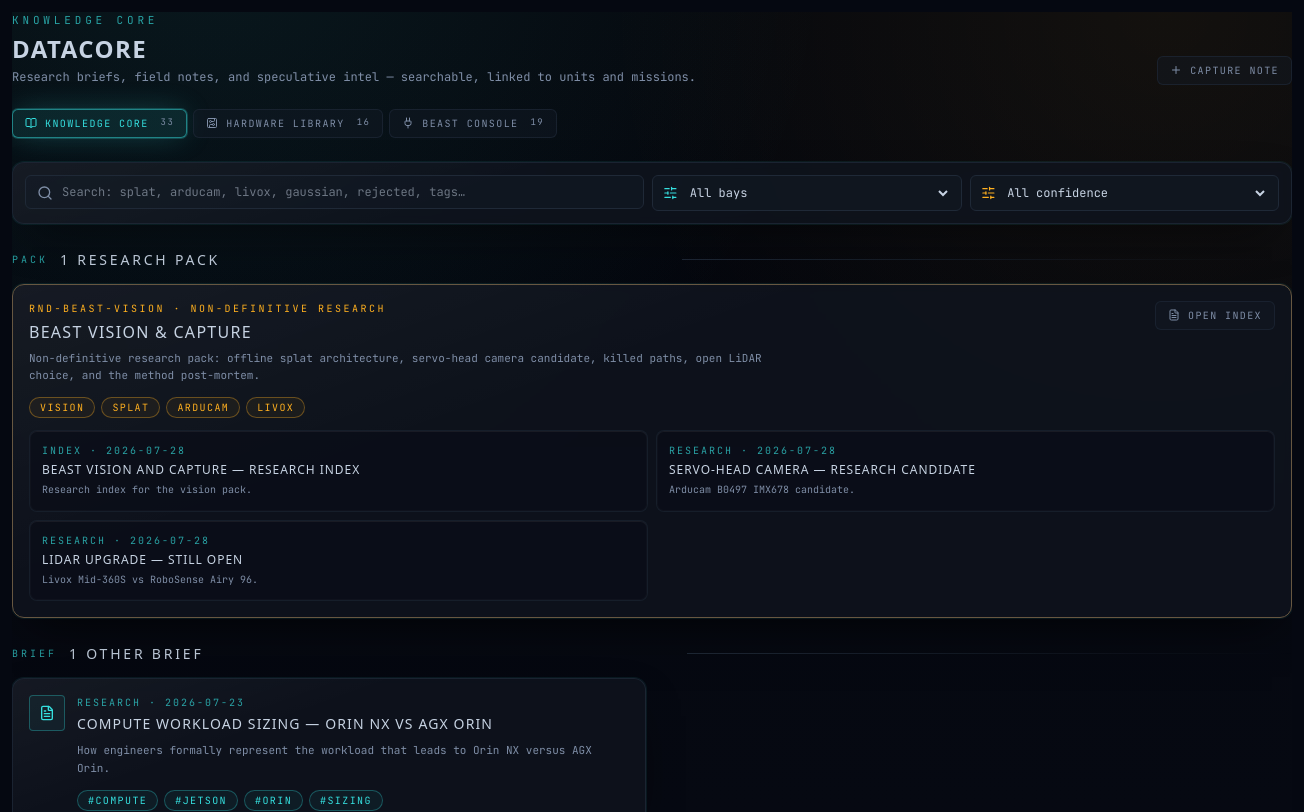
Test: Datacore page › finds the vision pack via product aliases like arducam and livox
Type "arducam" into the field with placeholder "Search: splat, arducam, livox, gaussian, rejected, tags…". click: (334, 192)
box: 25,174 -> 644,208
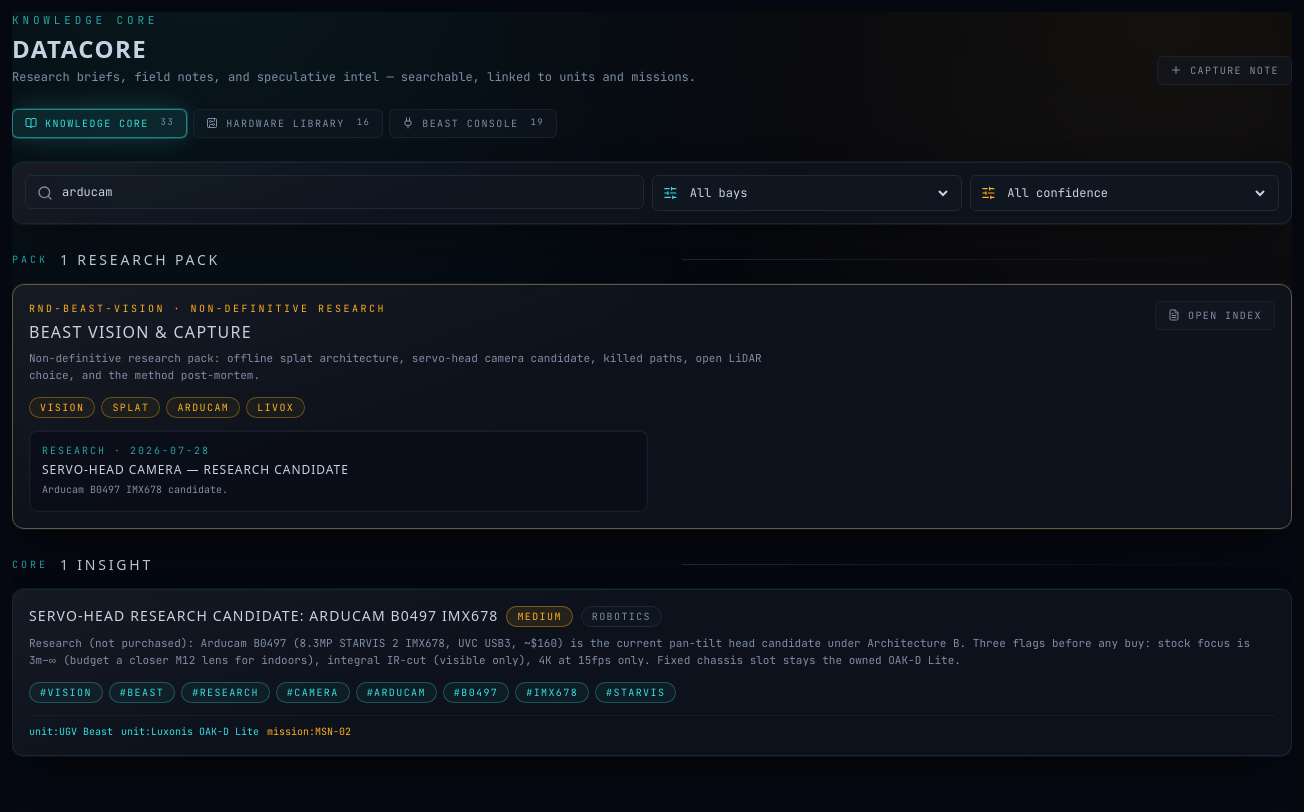
Expected: the heading "Beast Vision & Capture" is shown, 29,320 -> 252,342
Expected: the link "Servo-Head Camera" is shown, 29,430 -> 648,512
Replace the text in the field with placeholder "Search: splat, arducam, livox, gaussian, rejected, tags…" with "livox". click: (334, 192)
box: 25,174 -> 644,208
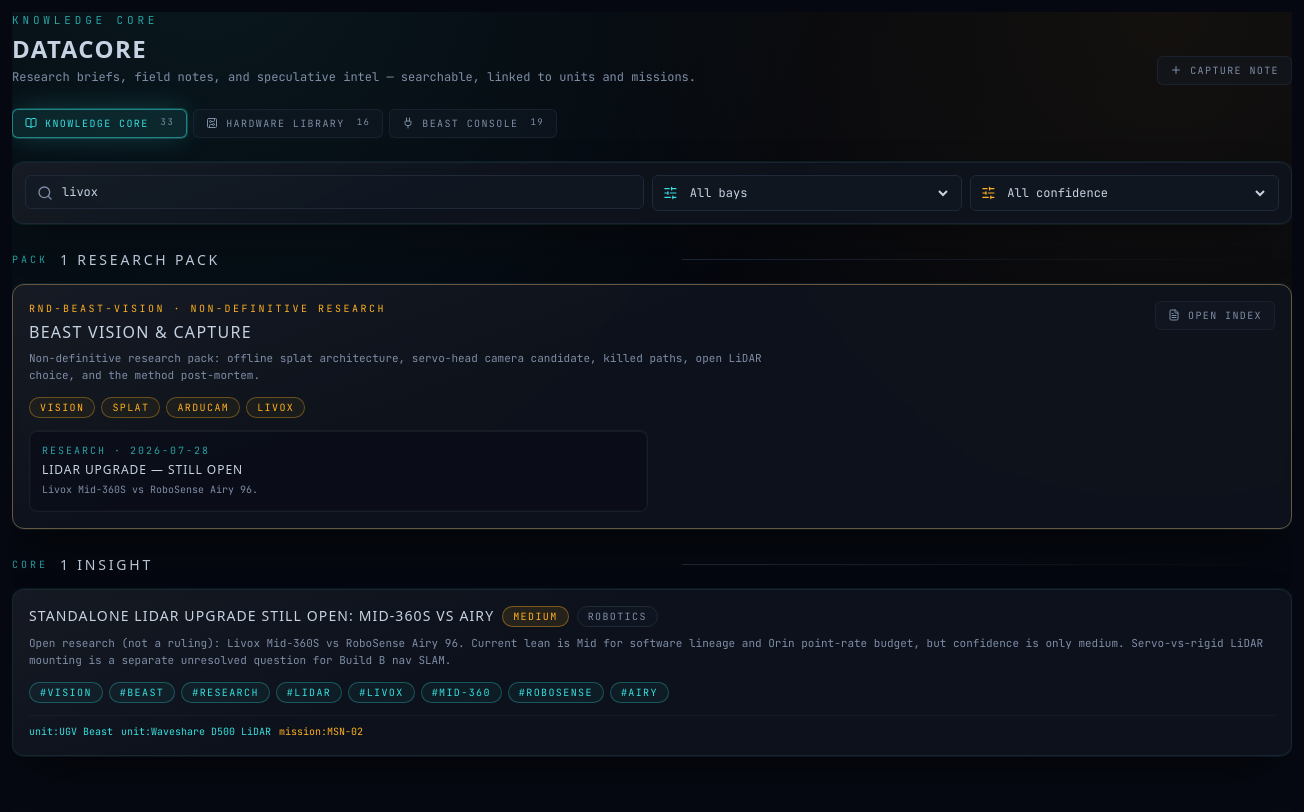
Expected: the heading "Beast Vision & Capture" is shown, 29,320 -> 252,342
Now the link "LiDAR Upgrade" is shown, box 29,430 -> 648,512
